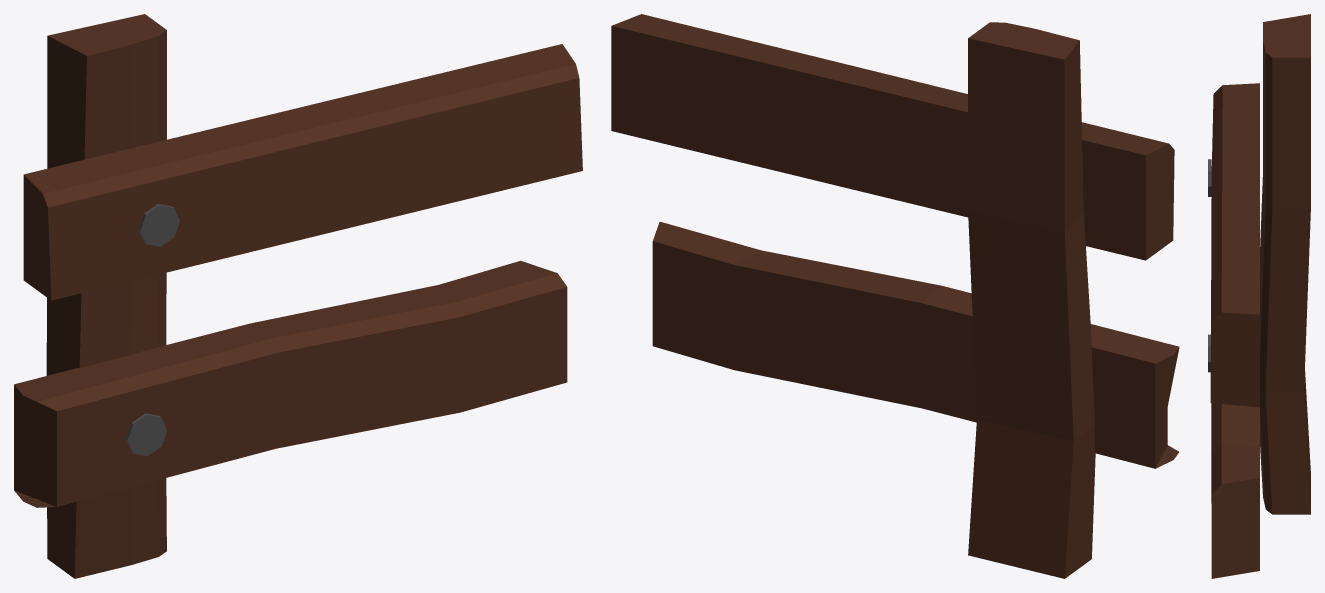
File: fence2.fbx
The picture shows the model from 3 angles, left to right: view 1: azimuth 30°, elevation 25°; view 2: azimuth 150°, elevation 25°; view 3: azimuth 270°, elevation 25°; orthographic projection. The views are drawn at different scales.
Visible parts, largest first — view 1: Fence.001; view 2: Fence.001; view 3: Fence.001.
Part boxes in pixels (x1,y1,x2,y2): Fence.001: (14, 14, 582, 578); Fence.001: (611, 14, 1179, 578); Fence.001: (1208, 14, 1310, 578).
Bounding box in the file's own units: 534 × 483 × 98.15.
